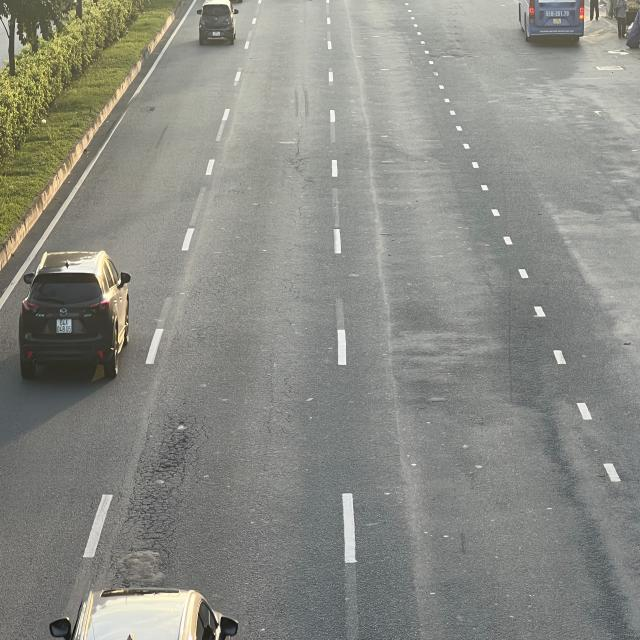car: (18, 248, 132, 378), (198, 0, 238, 44)
coach: (517, 0, 586, 42)
